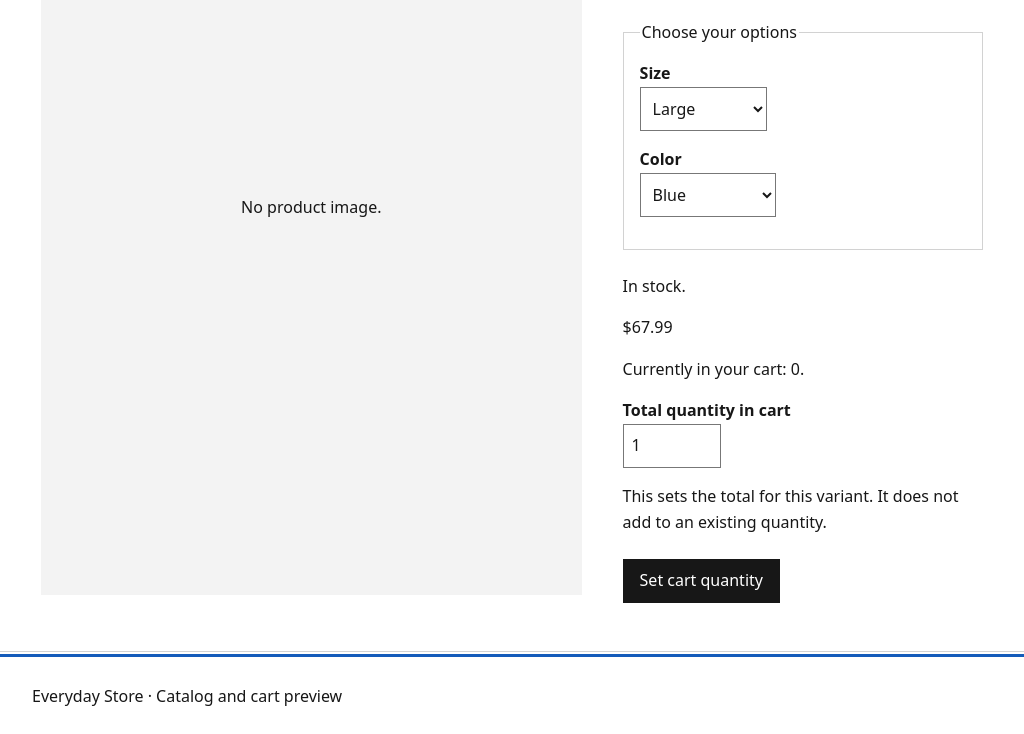
it: storefront composition › does not repopulate a private cache when a pending write completes after logout
(page scrolled)
Click the button "Set cart quantity" at (701, 581), box [623,559,780,603]
(page scrolled)
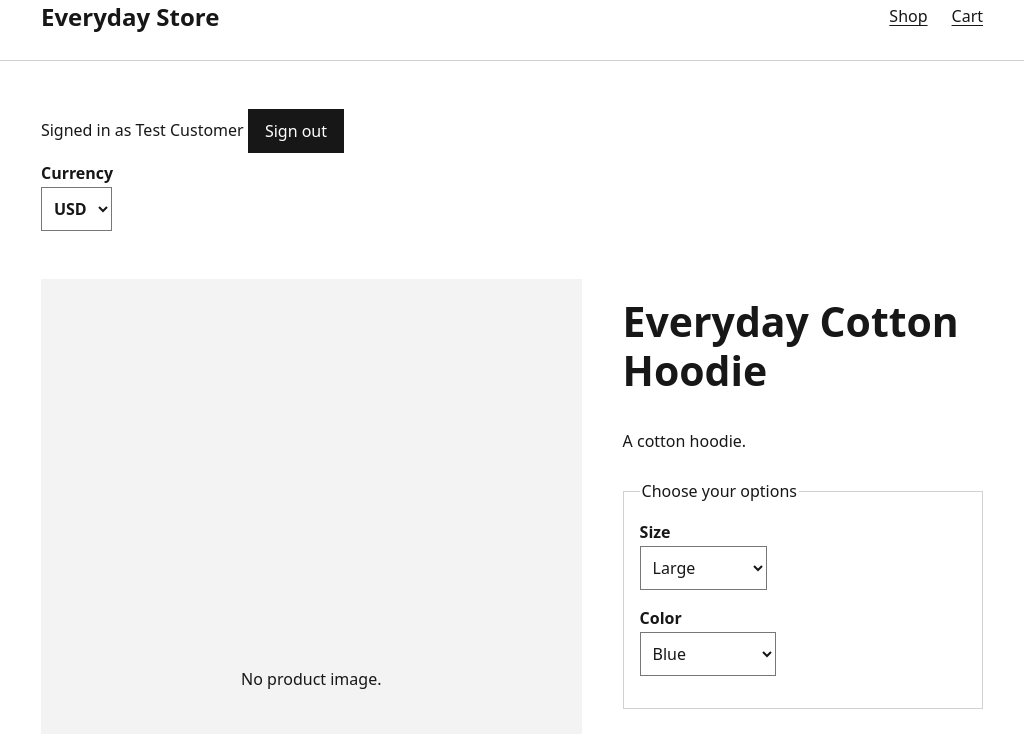
Click the button "Sign out" at (296, 131), box [248,109,344,153]
(page scrolled)
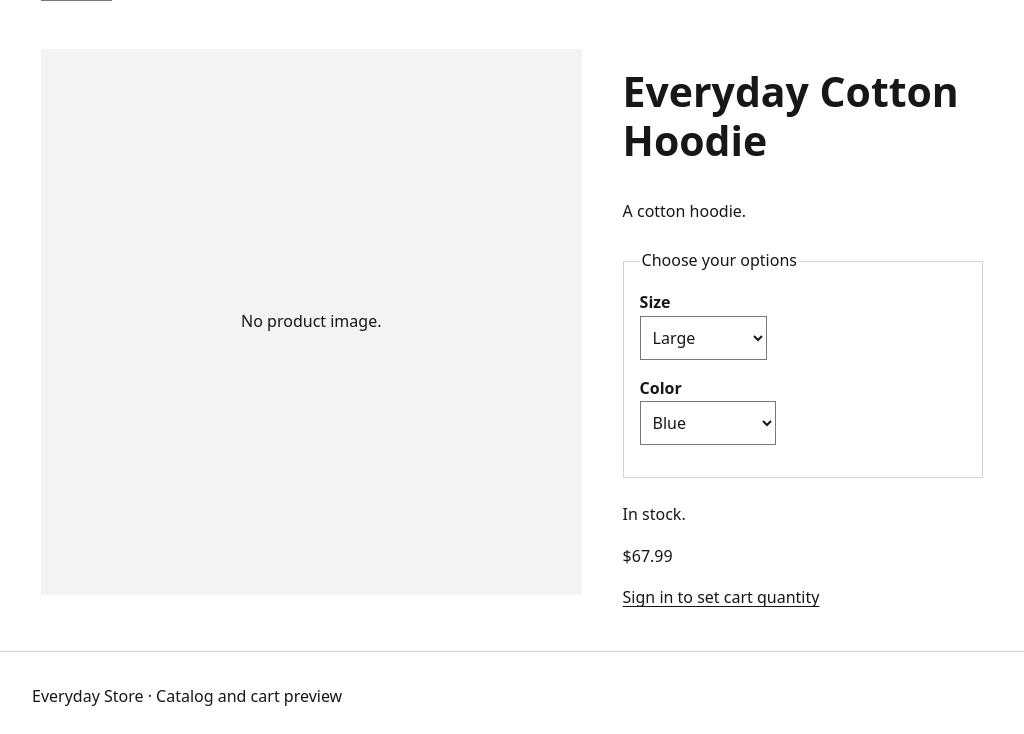
Now the link "Sign in to set cart quantity" is shown, box [623,586,820,608]
